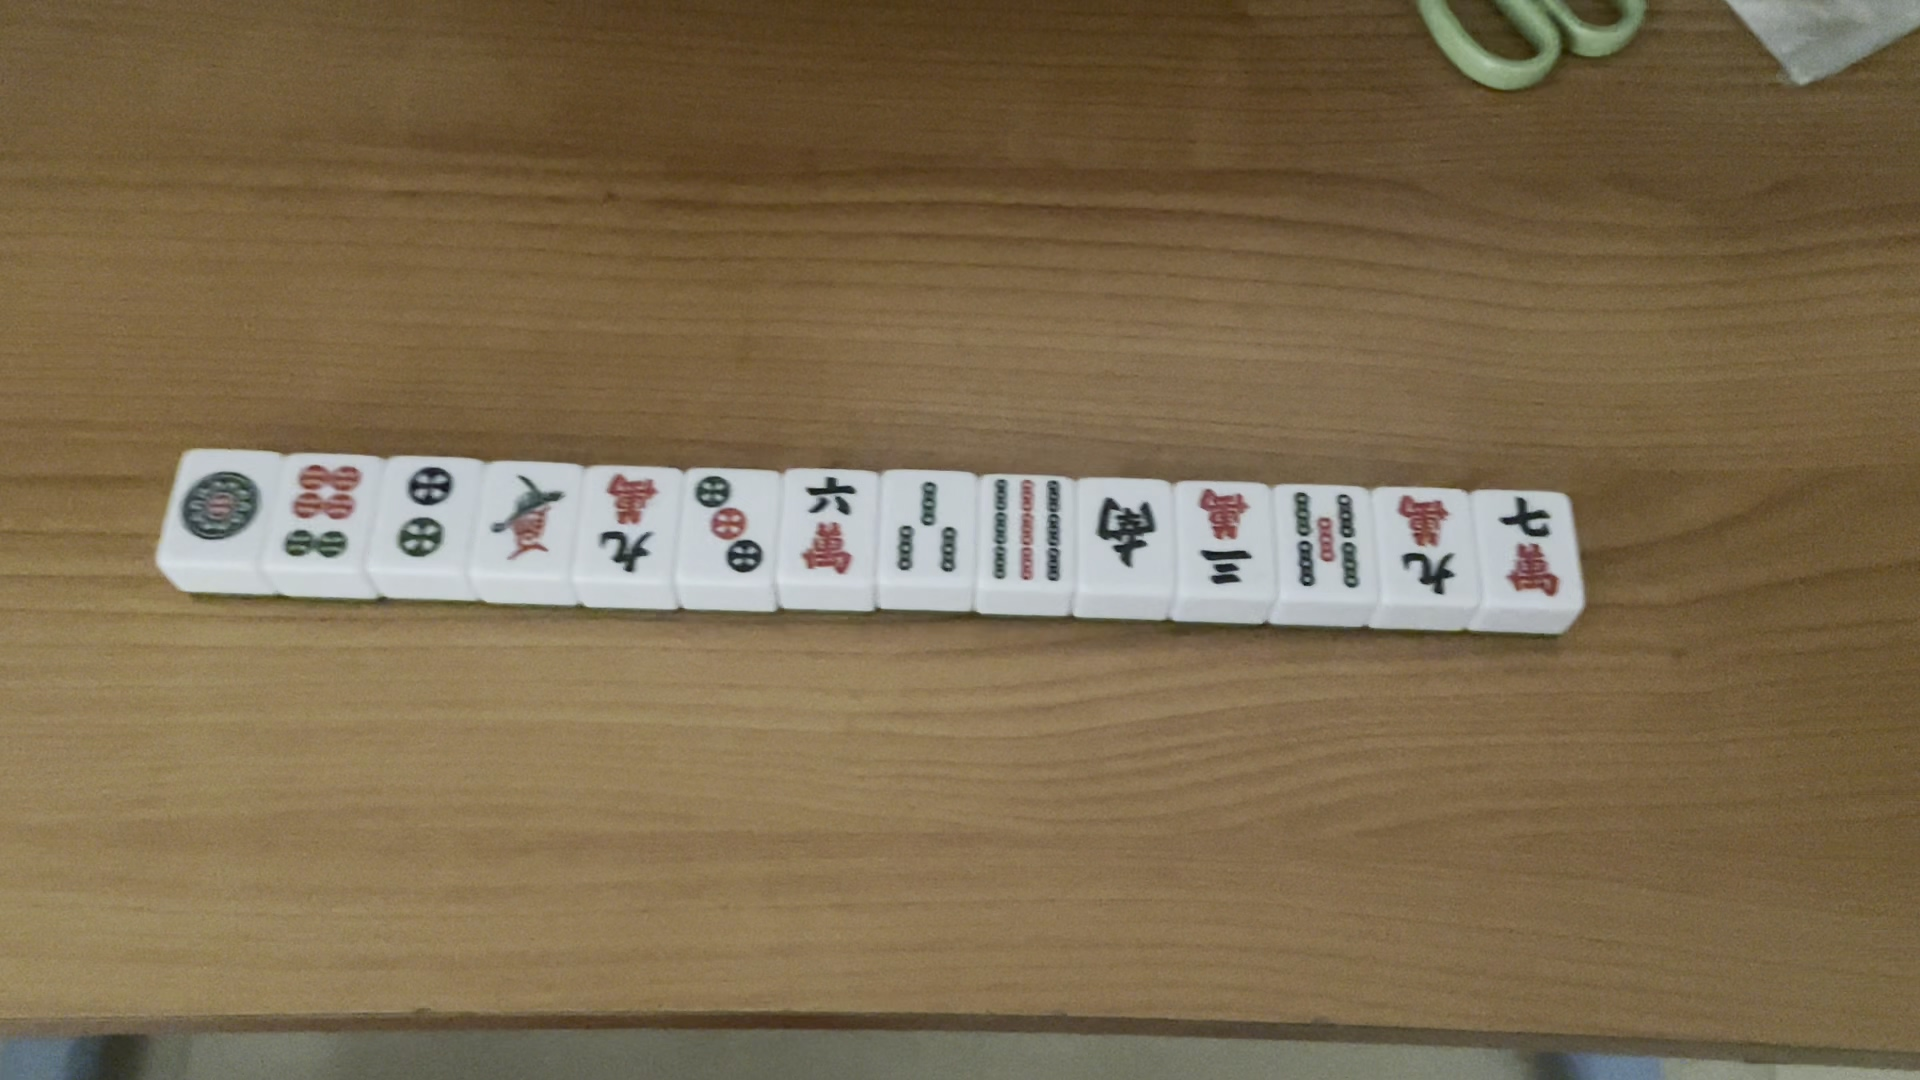b-1: (491, 462, 571, 564)
b-3: (889, 473, 973, 582)
b-5: (1280, 488, 1377, 601)
b-9: (986, 473, 1068, 588)
c-3: (1189, 483, 1261, 593)
c-6: (791, 467, 868, 576)
c-7: (1494, 491, 1571, 604)
c-9: (589, 469, 659, 576), (1393, 488, 1462, 593)
d-1: (174, 454, 261, 556)
d-2: (393, 460, 462, 564)
d-3: (694, 469, 767, 583)
d-6: (287, 464, 364, 570)
honors-south: (1089, 492, 1162, 568)
